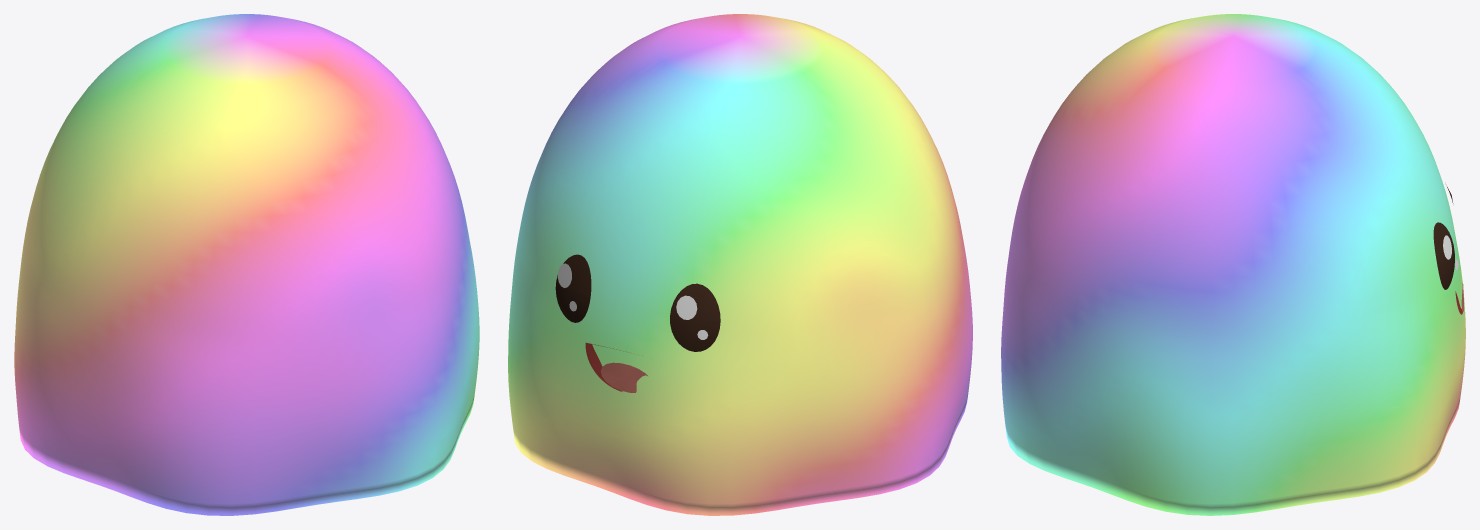
File: MONSTER_RAINBOWSLIME.glb
The picture shows the model from 3 angles, left to right: view 1: azimuth 30°, elevation 25°; view 2: azimuth 150°, elevation 25°; view 3: azimuth 270°, elevation 25°; orthographic projection.
Visible parts, largest first — view 1: jelly; view 2: jelly, face_eyes, face_tongue, face_highlights; view 3: jelly, face_eyes.
Part boxes in pixels (bbox=[...]): jelly: bbox=[14, 14, 479, 515]; jelly: bbox=[508, 14, 972, 515]; face_eyes: bbox=[555, 254, 720, 351]; face_tongue: bbox=[600, 362, 647, 392]; face_highlights: bbox=[557, 263, 708, 339]; jelly: bbox=[1001, 14, 1465, 515]; face_eyes: bbox=[1433, 187, 1454, 289].
Bounding box in the file's own units: 3.94 × 3.5 × 3.87.
